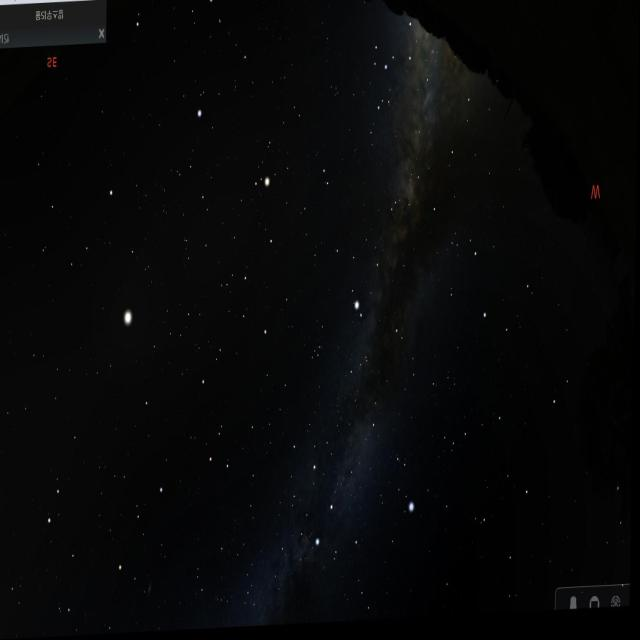aquila: (329, 195, 408, 322)
cygnus: (313, 399, 379, 560)
lyra: (392, 438, 422, 526)
